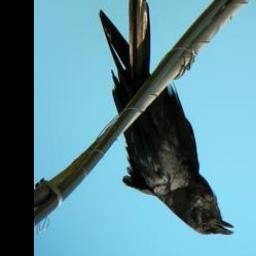Crow: (98, 0, 234, 238)
